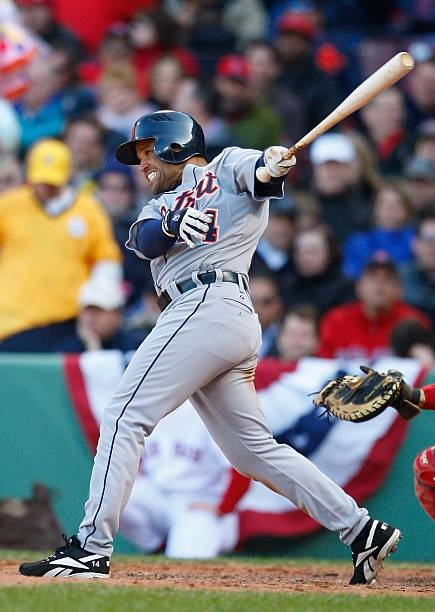bita: (281, 54, 414, 162)
